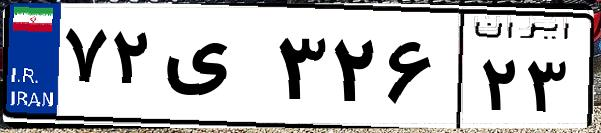2: (330, 28, 385, 110), (475, 38, 525, 113), (110, 28, 158, 98)
3: (270, 28, 330, 110), (525, 38, 570, 115)
6: (385, 28, 445, 110)
7: (57, 26, 110, 100)
ی: (158, 20, 270, 120)
